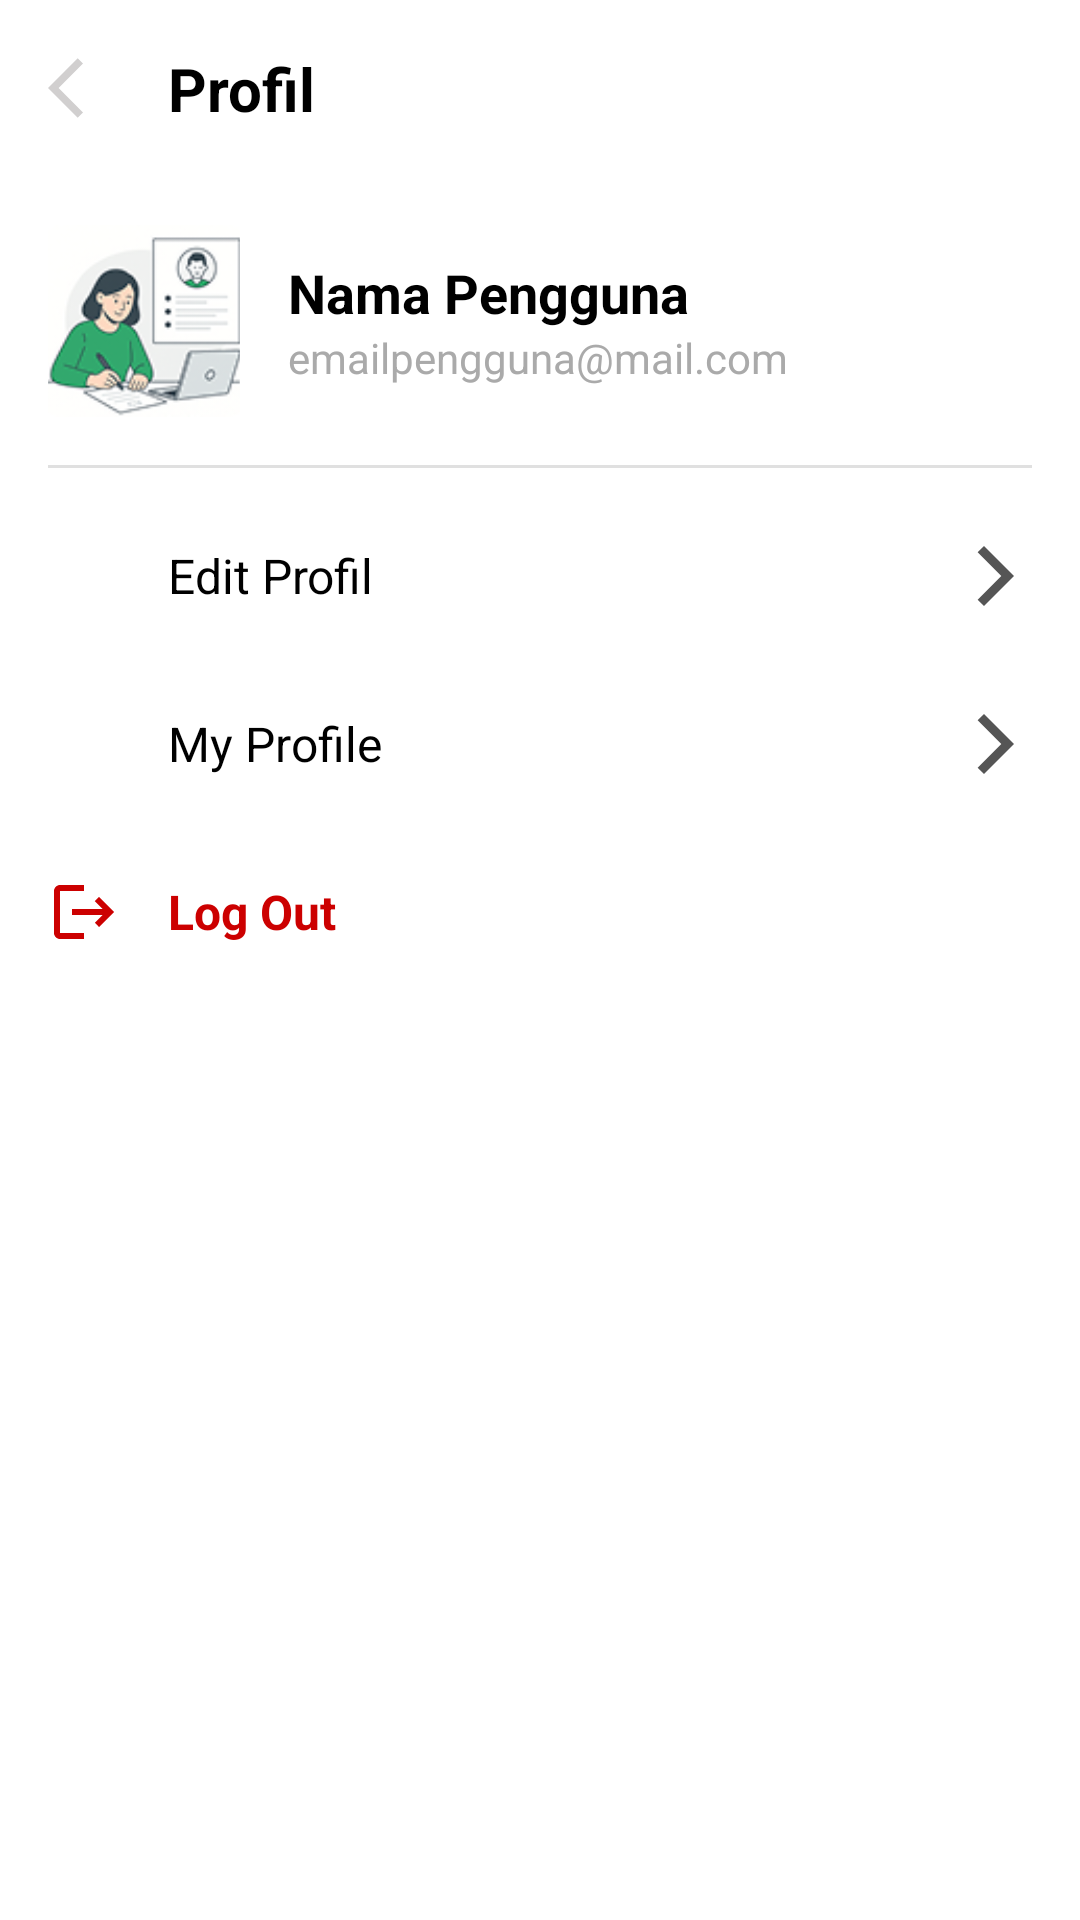

Icon click points for this 1080px×1920px phone screenshot, format (x,y):
Panah Maju: (996,576), (996,744)
Tombol Kembali: (66,88)
